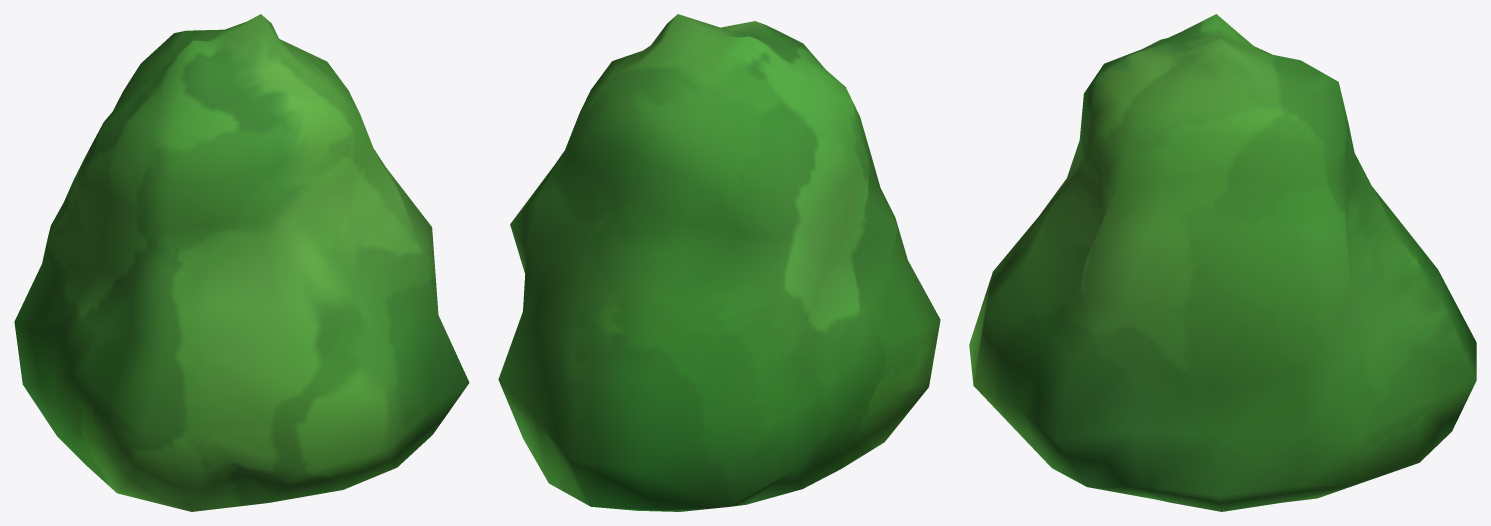
Rendered from Bush_01.fbx.
The picture shows the model from 3 angles, left to right: view 1: azimuth 30°, elevation 25°; view 2: azimuth 150°, elevation 25°; view 3: azimuth 270°, elevation 25°; orthographic projection.
Visible parts, largest first — view 1: Bush.001; view 2: Bush.001; view 3: Bush.001.
Boxes of the visible parts, x1,y1,x2,y2 form: Bush.001: (14,14,469,511); Bush.001: (498,14,940,511); Bush.001: (969,14,1476,511).
Bounding box in the file's own units: 198 × 239 × 253.
Materials: 1 (1 with a texture image).
